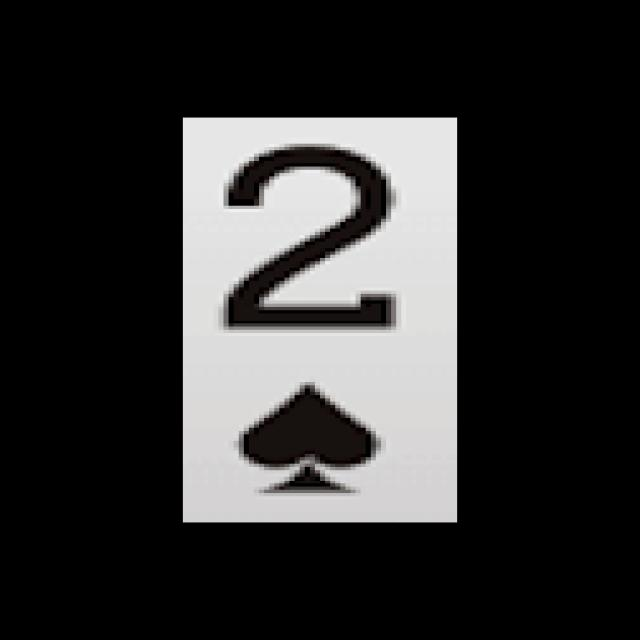2S: (203, 132, 426, 507)
